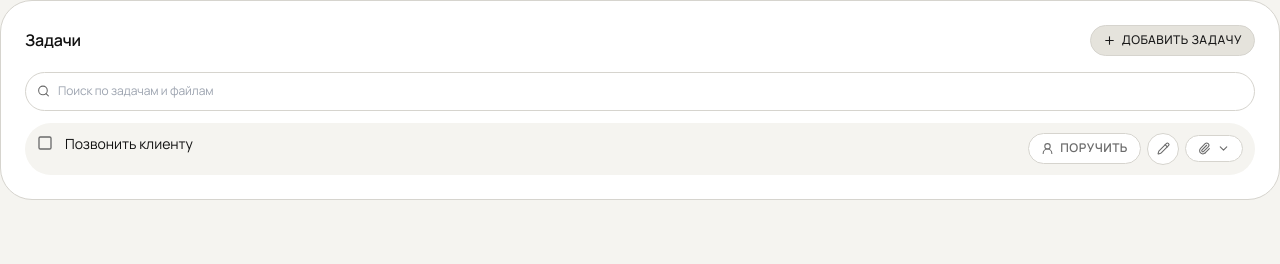
it: TasksTab — права на делегирование › руководитель видит выбор исполнителя в форме
Click the button "Добавить задачу".
click(1172, 40)  # box [1090,25,1255,56]
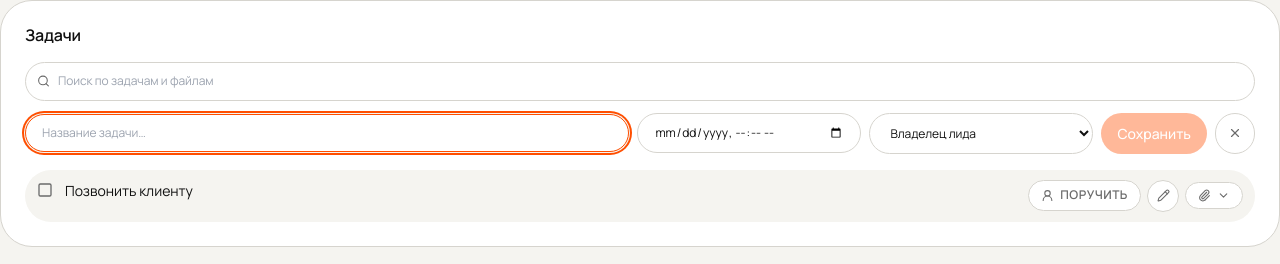
Expected: the dropdown named "Исполнитель задачи" is shown, [869,113,1093,154]
